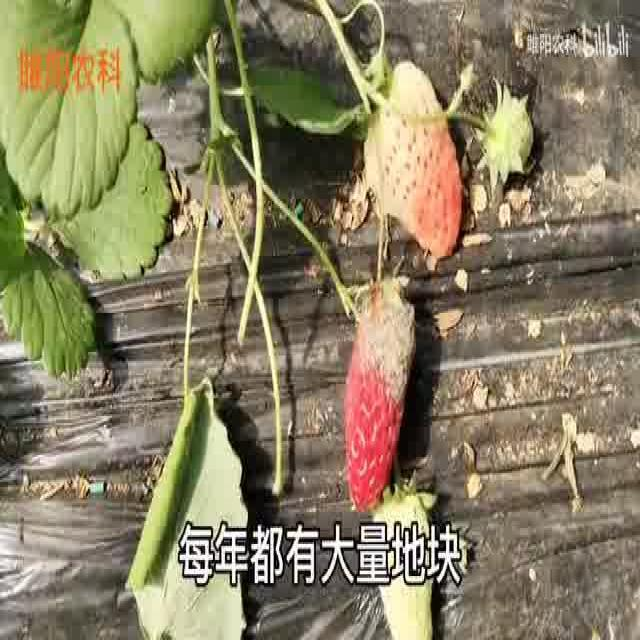Fruta sana: (364, 61, 464, 260), (477, 78, 533, 191)
Moho gris: (344, 276, 415, 512)
